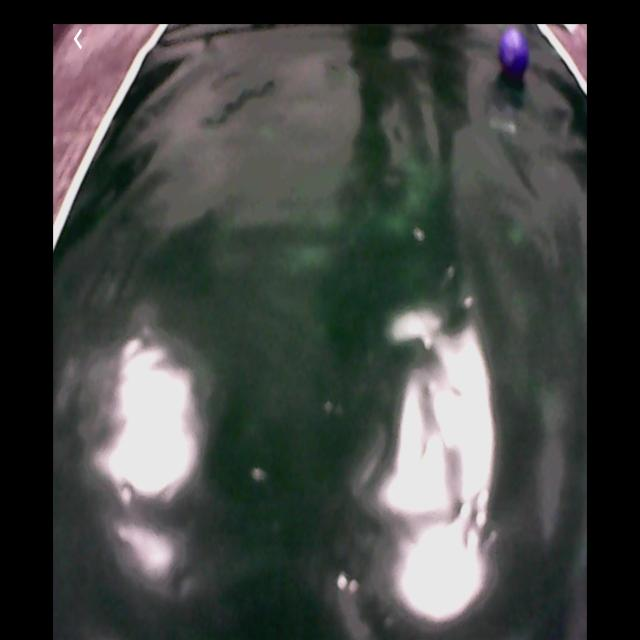ball: (500, 29, 530, 78)
